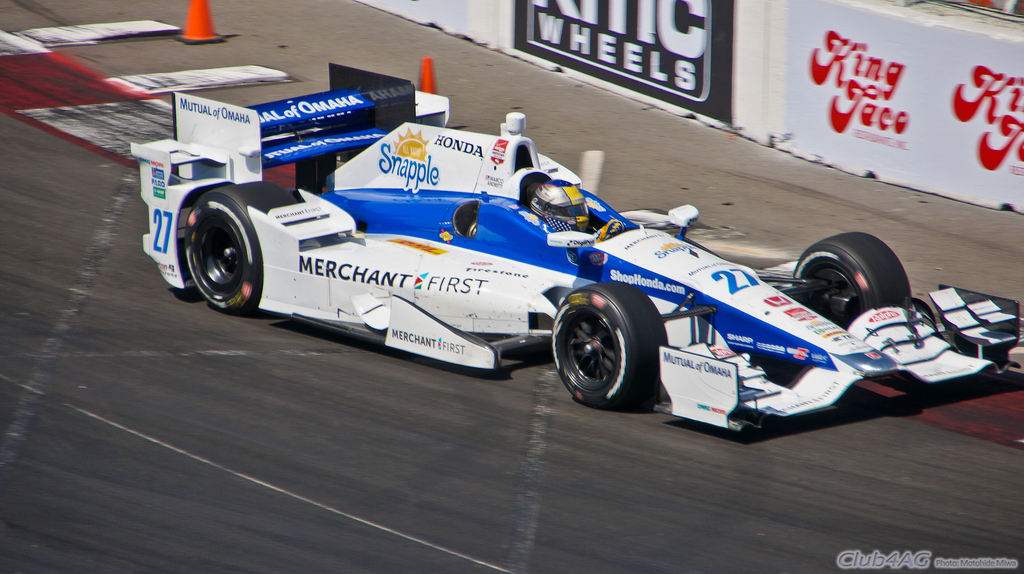cars: (150, 109, 987, 414)
